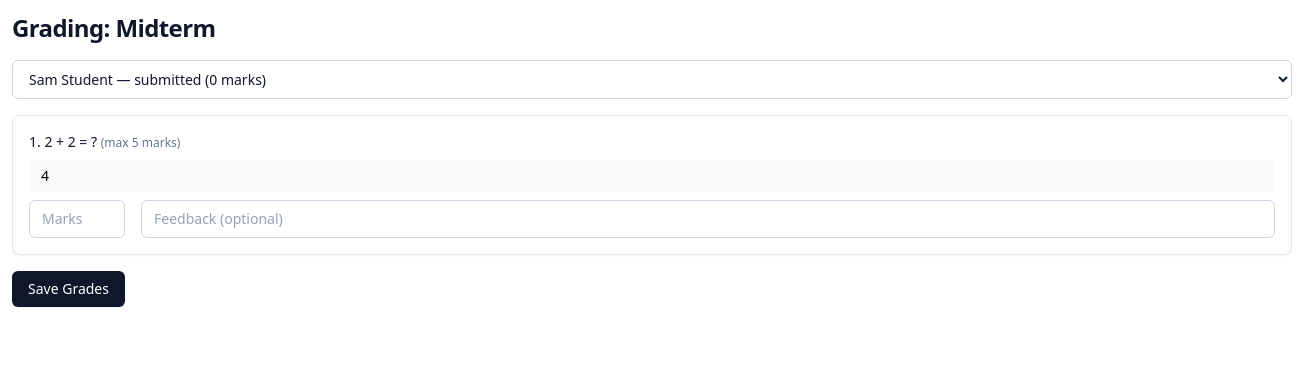
Test: GradingInterfacePage grading form › submits the entered mark for the answered question via POST /exams/{id}/grade
Type "4" into the number field with placeholder "Marks" at (77, 219), box [29, 200, 125, 238]
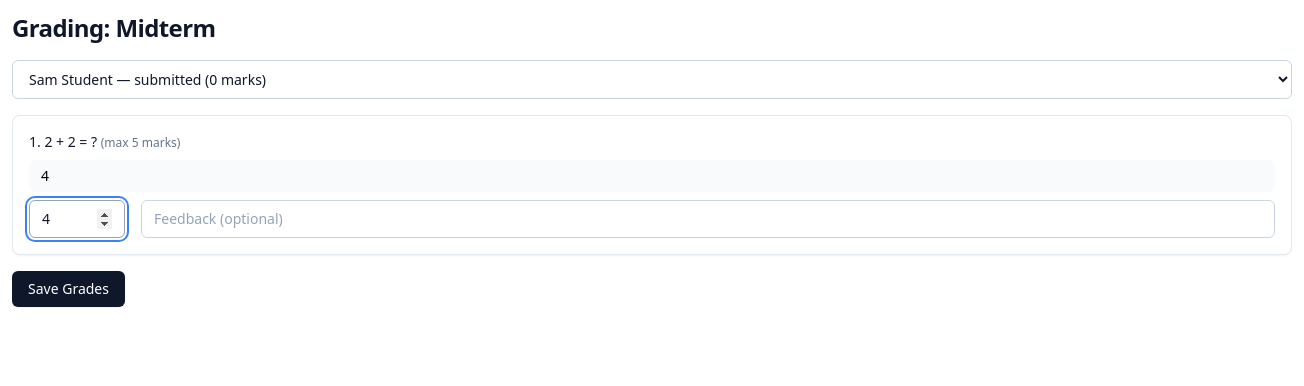
Click the button "Save Grades" at (68, 289), box [12, 271, 125, 307]
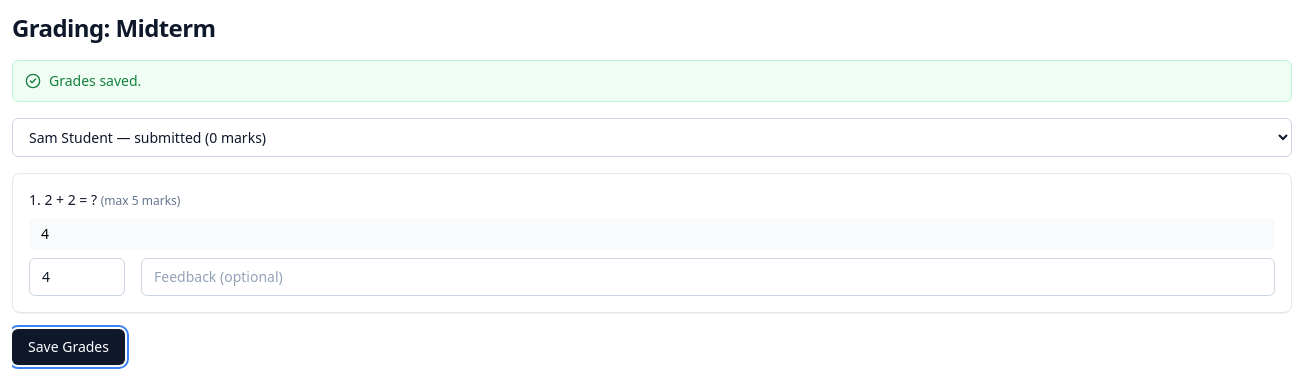
Now the text "Grades saved." is shown, box [49, 71, 141, 91]
